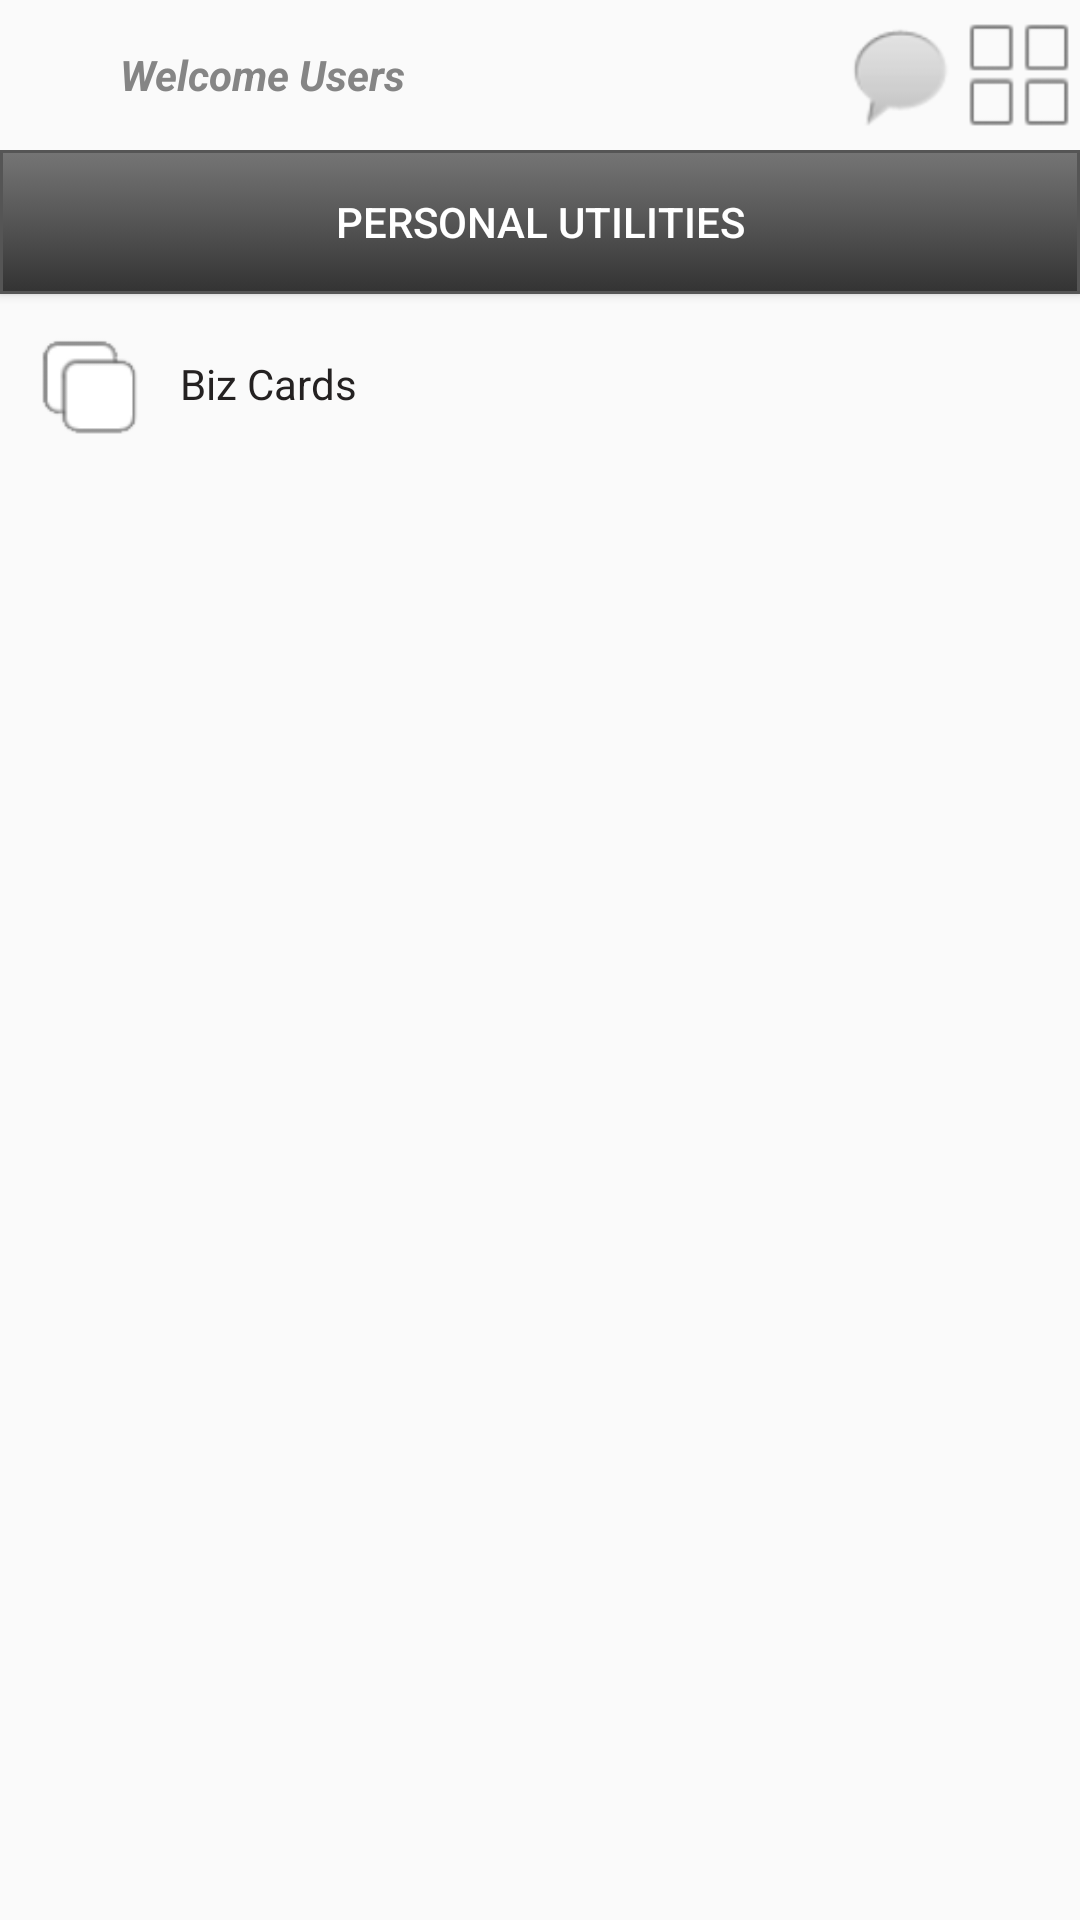

Named icons in this screenshot (1080 x 1920) and their centers, (x=x, y=y):
menu: (x=1019, y=75)
sym action chat: (x=899, y=77)
